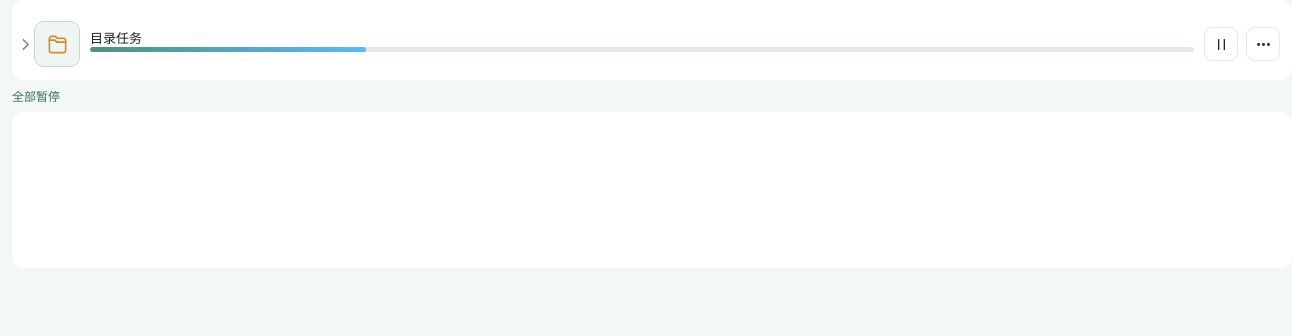
encloses an expanded task row and its file list in one rounded task card
Click the button named "展开 目录任务" at (25, 44), box [12,27,38,61]
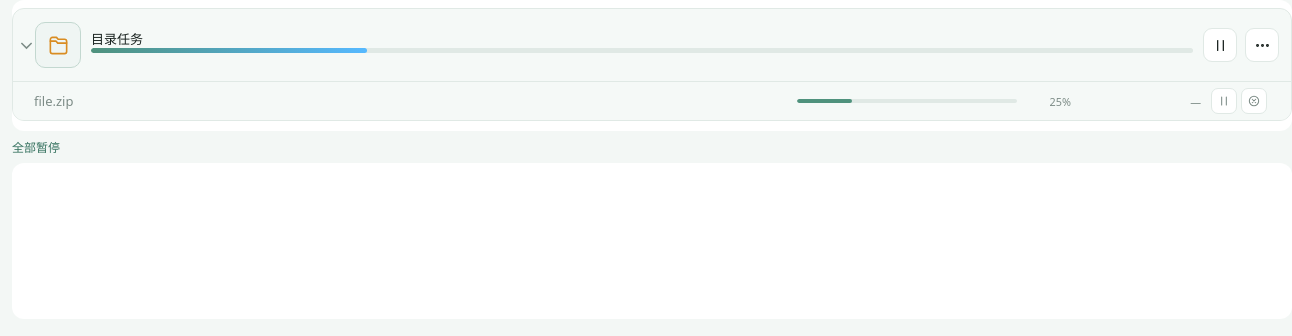
Expected: the 1st element with class "task-row" is shown, [91,28,1279,62]
Result: the element with class "is-expanded" is shown at [12,8,1291,121]
Result: the element with class "children" is shown at [13,81,1291,120]
